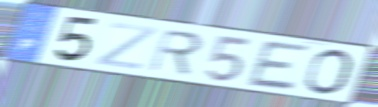5: (203, 33, 256, 83), (53, 16, 100, 64)
E: (244, 39, 314, 93)
O: (300, 48, 356, 97)
R: (146, 28, 205, 77)
Z: (93, 21, 160, 72)
